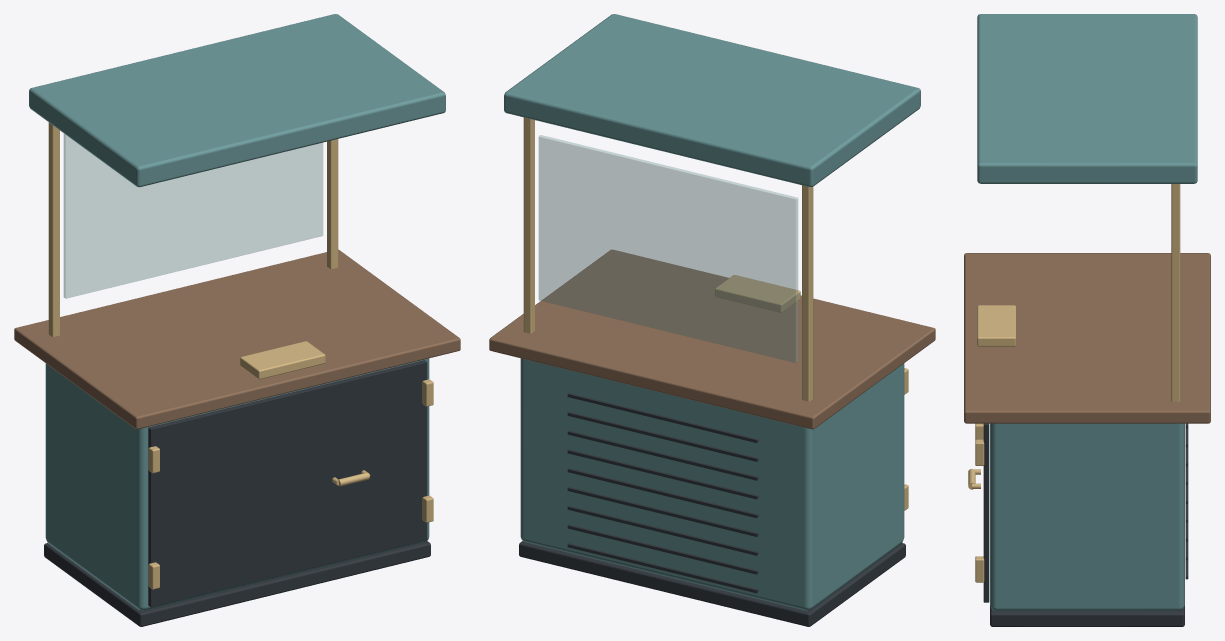
The model's file is abandoned-cinema-and-projection-booth-abandoned-cinema-340b27bf__29687.glb.
3 renders of one model, left to right at view 1: azimuth 30°, elevation 25°; view 2: azimuth 150°, elevation 25°; view 3: azimuth 270°, elevation 25°, orthographic.
Parts seen in each view (by area): view 1: abandoned-cinema-and-projection-booth-ticket-booth; view 2: abandoned-cinema-and-projection-booth-ticket-booth; view 3: abandoned-cinema-and-projection-booth-ticket-booth.
Part boxes in pixels (bbox=[...]): abandoned-cinema-and-projection-booth-ticket-booth: bbox=[14, 14, 460, 626]; abandoned-cinema-and-projection-booth-ticket-booth: bbox=[489, 14, 935, 626]; abandoned-cinema-and-projection-booth-ticket-booth: bbox=[964, 14, 1210, 626].
Size of the model in its own units: 1.45 by 1.99 by 0.9501.
